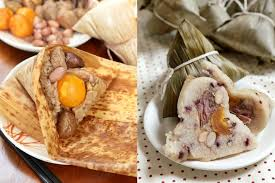zongzi: (163, 19, 247, 116), (163, 77, 255, 161), (42, 48, 105, 135), (73, 0, 136, 65), (214, 0, 274, 59), (149, 0, 205, 33)
